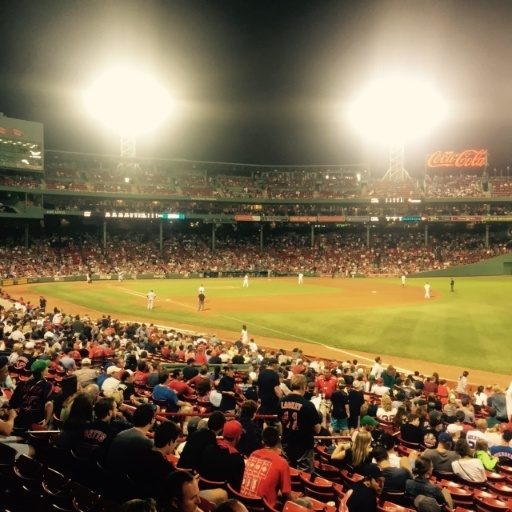hand: (192, 468, 200, 484), (8, 408, 17, 419), (0, 407, 6, 417)
